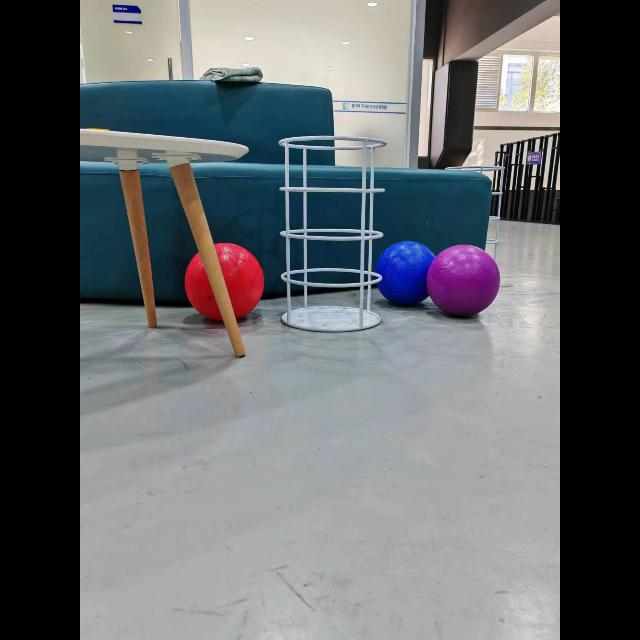B: (375, 241, 435, 305)
P: (426, 245, 500, 316)
R: (184, 238, 266, 322)
S: (280, 135, 386, 331)
